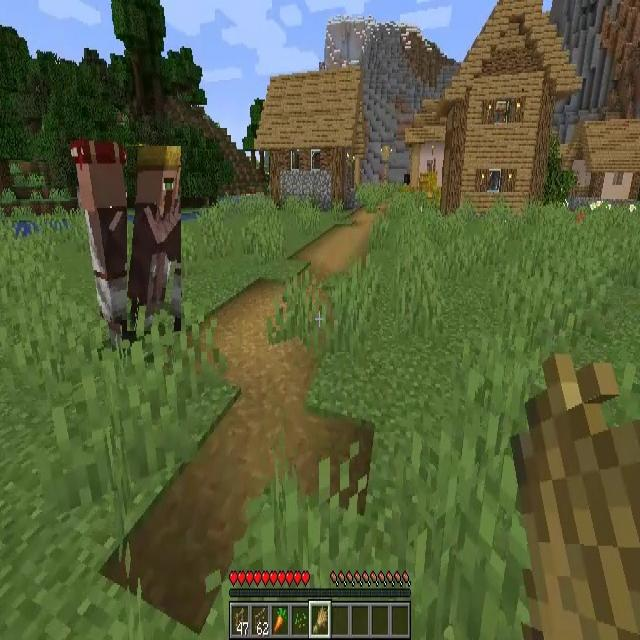people: (70, 142, 146, 348), (128, 146, 182, 331)
